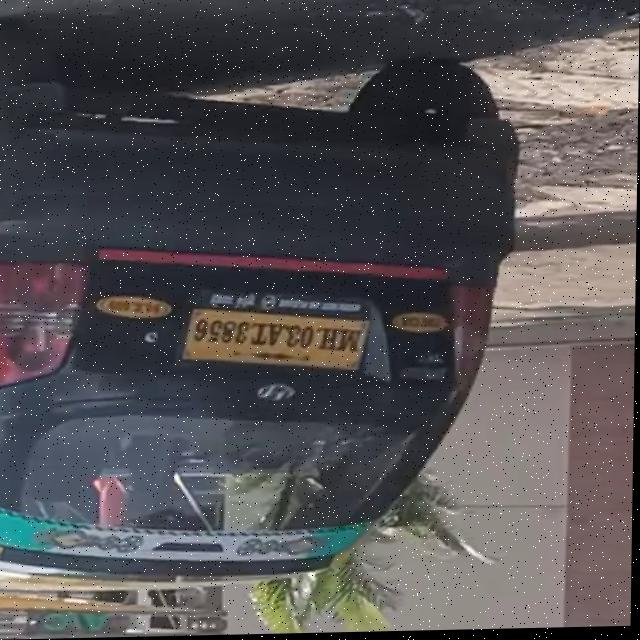plate: (181, 306, 374, 379)
